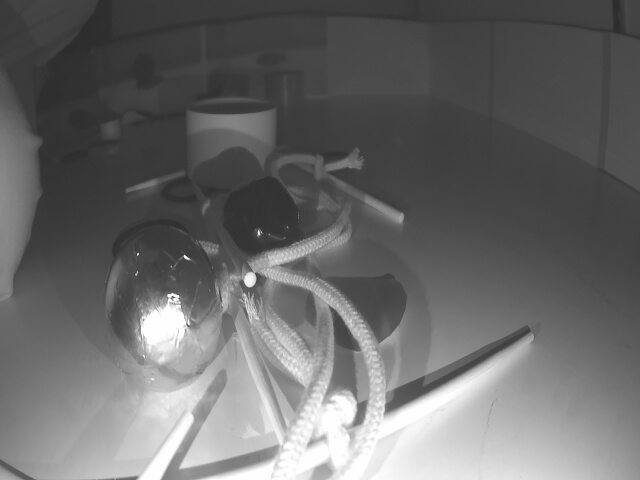Dead: (224, 172, 300, 254)
Live: (100, 229, 224, 391)
